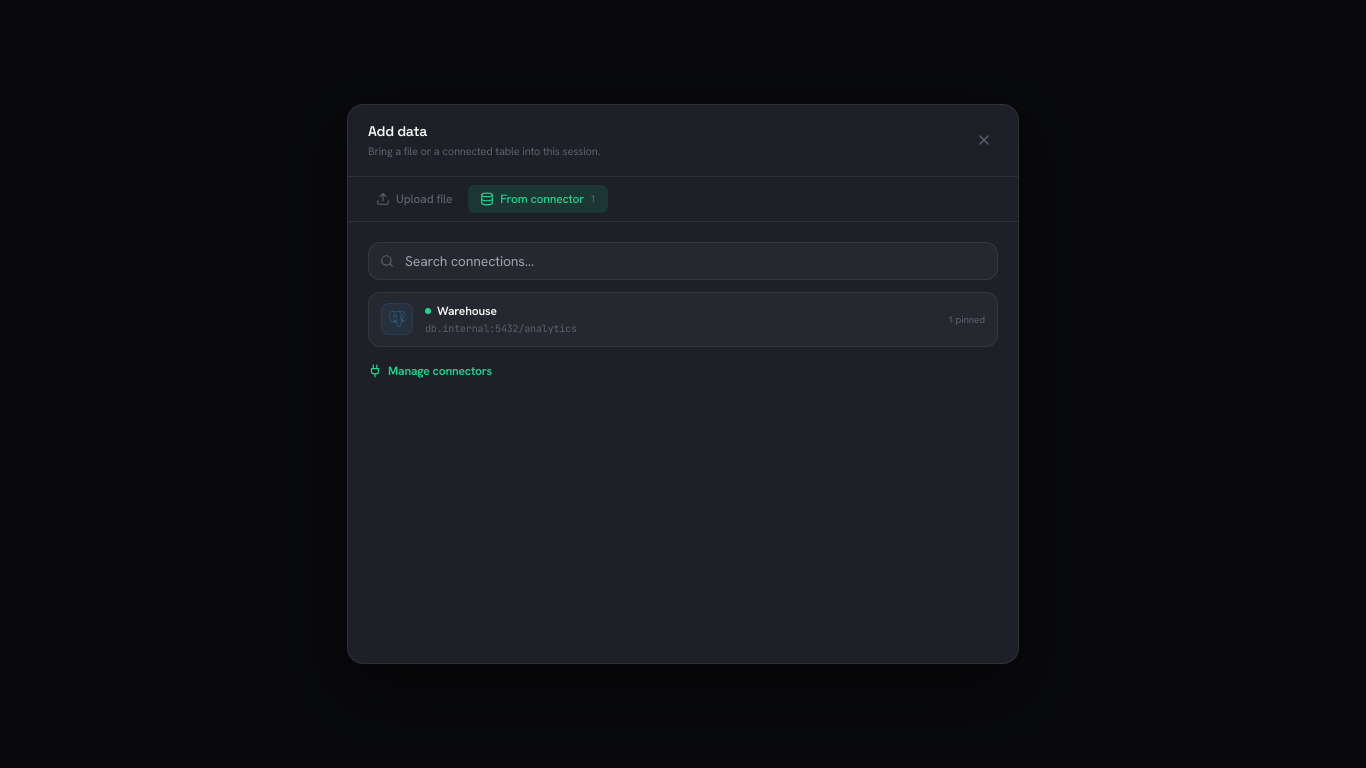
Test case: AddDataModal › drills into a connection to offer its pinned tables
Step 1. Click the button "Warehouse db.internal:5432/analytics 1 pinned" → x=397, y=319, box [368,292,998,346]
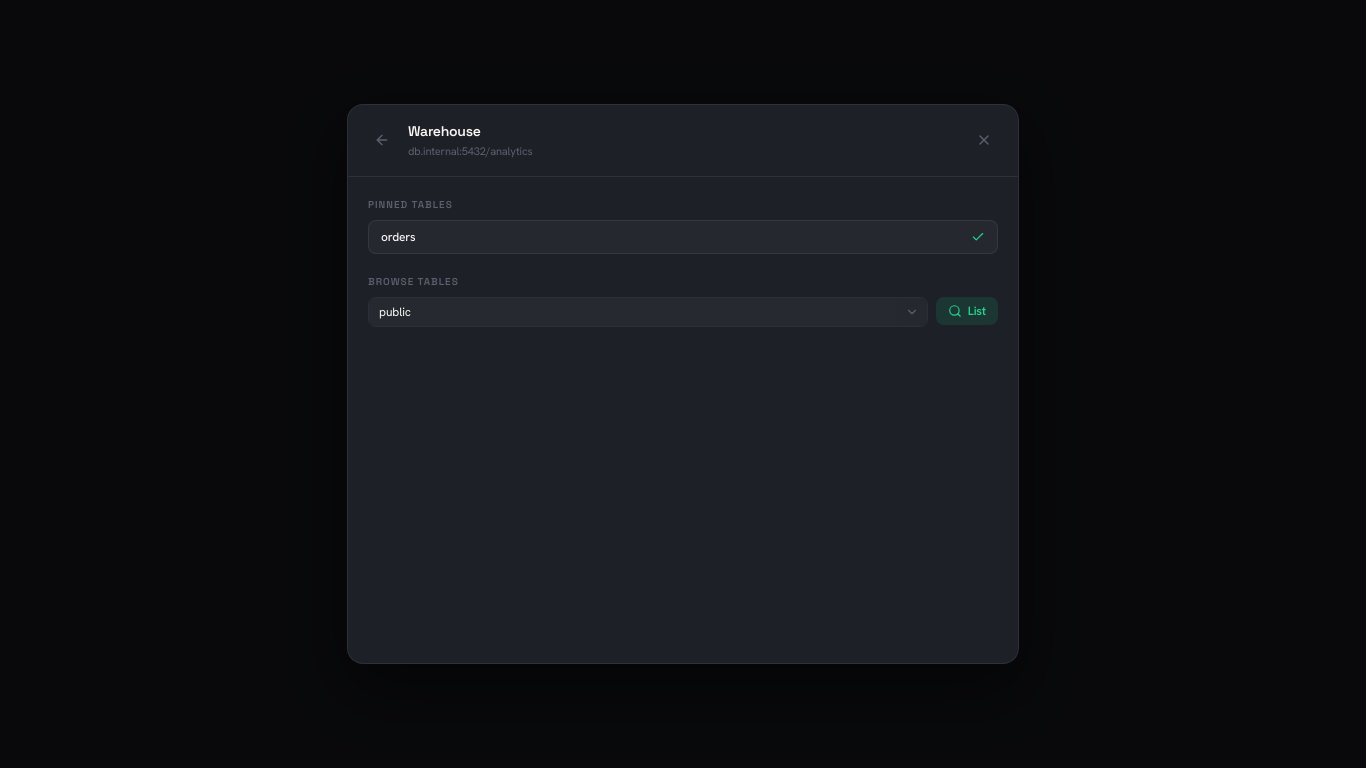
Check: the text "Pinned tables" is shown, box [368,198,453,210]
Check: the text "orders" is shown, box [381,228,416,244]
Check: the text "Browse tables" is shown, box [368,274,459,288]
